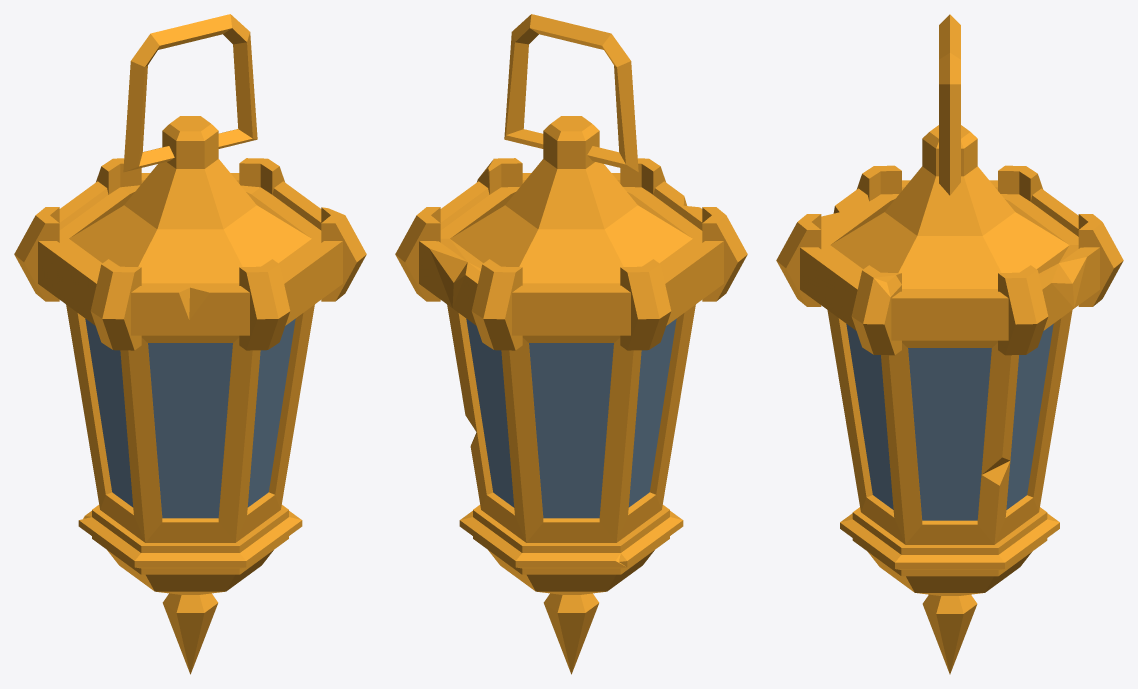
File: SM_Lantern_C_Fantasy.fbx
3 views of the same model, side by side, from view 1: azimuth 30°, elevation 25°; view 2: azimuth 150°, elevation 25°; view 3: azimuth 270°, elevation 25° (orthographic).
Parts seen in each view (by area): view 1: lantern-c-fantasy; view 2: lantern-c-fantasy; view 3: lantern-c-fantasy.
Part boxes in pixels (x1,y1,x2,y2): lantern-c-fantasy: (14, 14, 366, 674); lantern-c-fantasy: (395, 14, 747, 674); lantern-c-fantasy: (776, 14, 1123, 674).
Bounding box in the file's own units: 0.3092 × 0.7225 × 0.3546.
